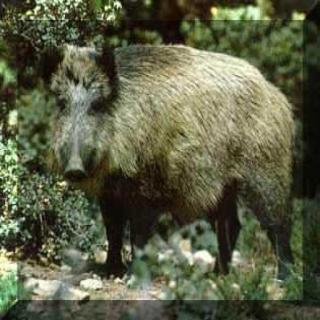Pig: (25, 44, 320, 313)
